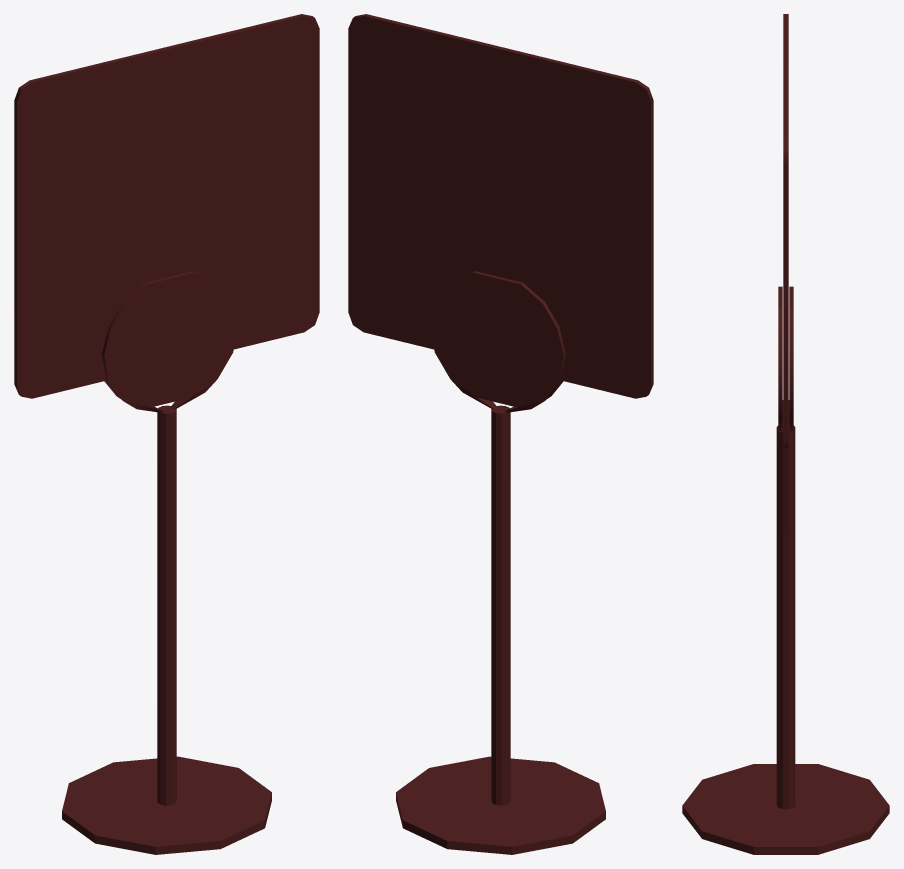
Rendered from Rest_Set10_TableCard_Stand_v01.fbx.
The picture shows the model from 3 angles, left to right: view 1: azimuth 30°, elevation 25°; view 2: azimuth 150°, elevation 25°; view 3: azimuth 270°, elevation 25°; orthographic projection. The views are drawn at different scales.
Visible parts, largest first — view 1: Rest_TableCard_01, Rest_TableCardHolder_01; view 2: Rest_TableCard_01, Rest_TableCardHolder_01; view 3: Rest_TableCardHolder_01, Rest_TableCard_01.
Part boxes in pixels (<box>): Rest_TableCard_01: <box>14,14,319,398</box>; Rest_TableCardHolder_01: <box>62,271,271,854</box>; Rest_TableCard_01: <box>348,14,653,398</box>; Rest_TableCardHolder_01: <box>396,271,605,854</box>; Rest_TableCardHolder_01: <box>682,286,889,854</box>; Rest_TableCard_01: <box>783,14,788,448</box>.
Bounding box in the file's own units: 7.84 × 18.87 × 4.82.
